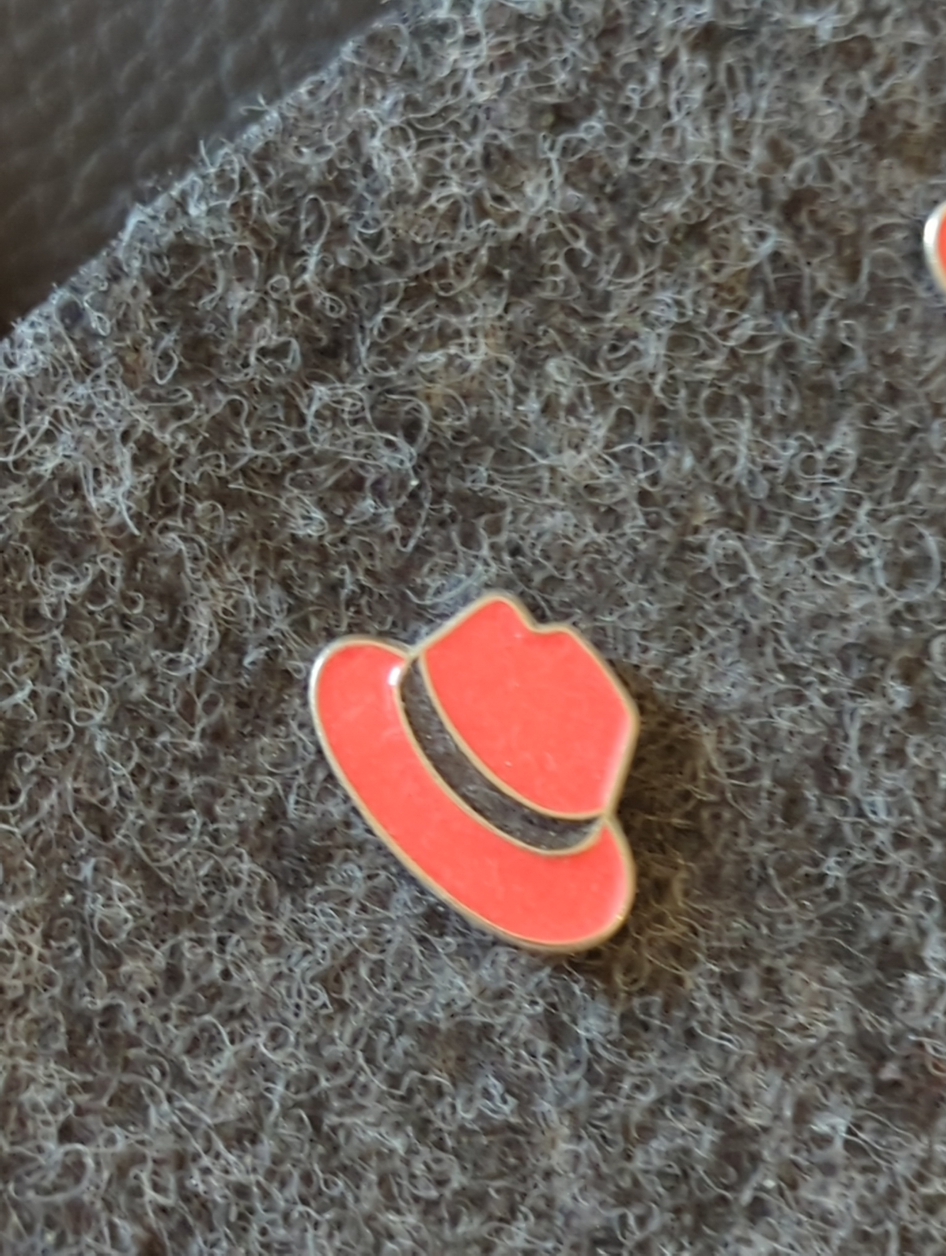Red-Hat: (214, 484, 781, 1052)
